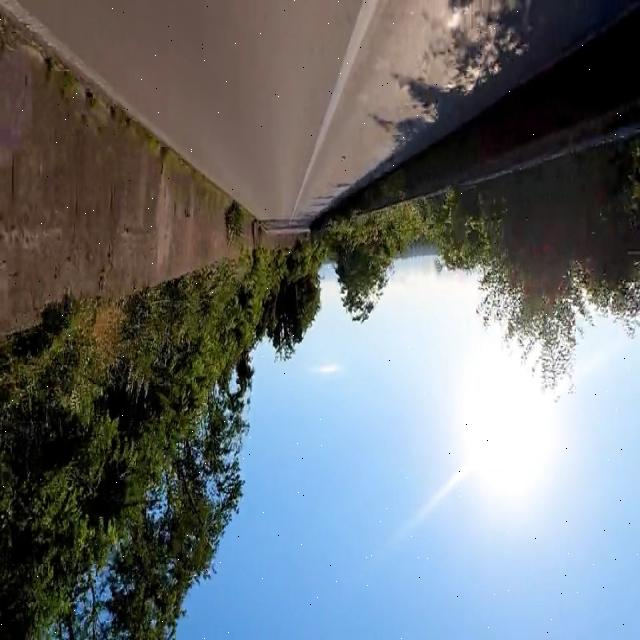lane: (291, 1, 379, 222)
road: (7, 2, 635, 231), (4, 2, 361, 219)
